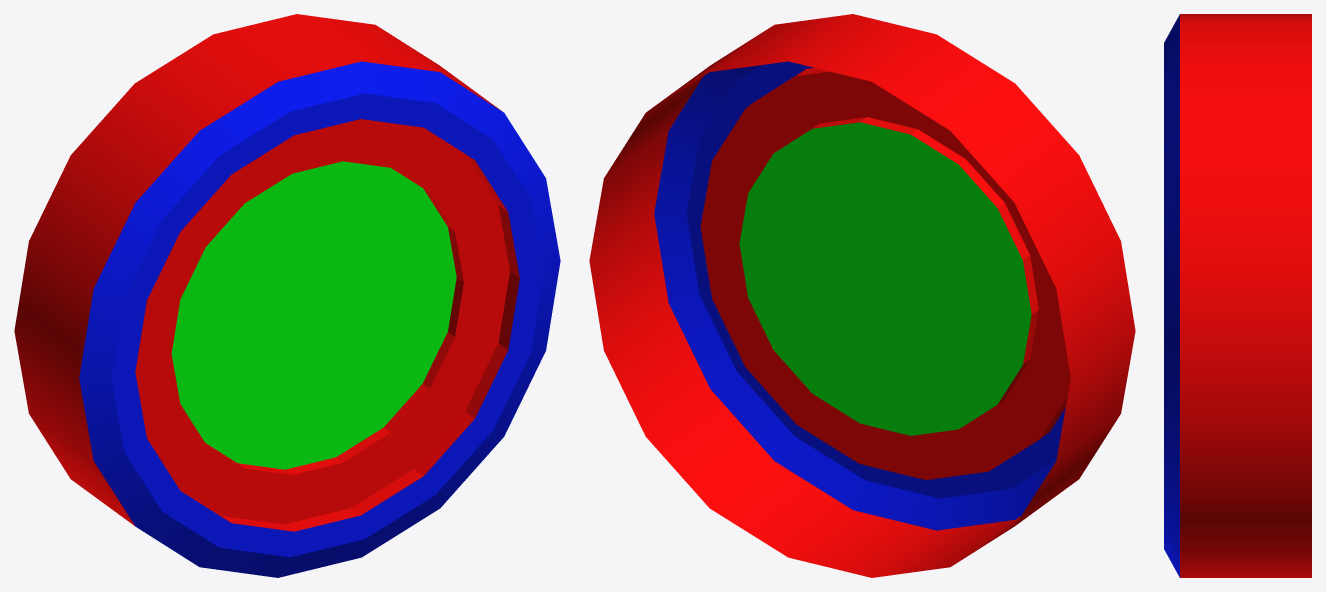
The model's file is Door_Eye.fbx.
3 renders of one model, left to right at view 1: azimuth 30°, elevation 25°; view 2: azimuth 150°, elevation 25°; view 3: azimuth 270°, elevation 25°, orthographic.
Visible parts, largest first — view 1: Door_Eye; view 2: Door_Eye; view 3: Door_Eye.
Boxes of the visible parts, <box> form: Door_Eye: <box>14,14,560,577</box>; Door_Eye: <box>589,14,1135,577</box>; Door_Eye: <box>1164,14,1311,577</box>.
Bounding box in the file's own units: 3.93 × 3.87 × 1.03.
